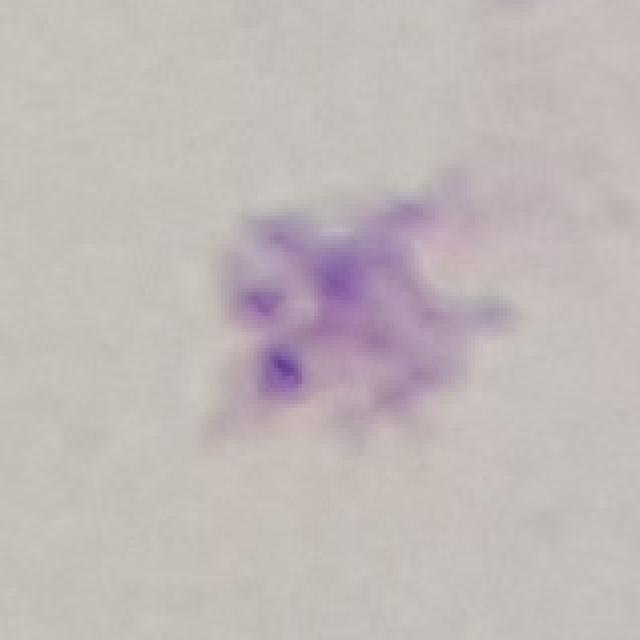non-sperm: (221, 197, 486, 425)
